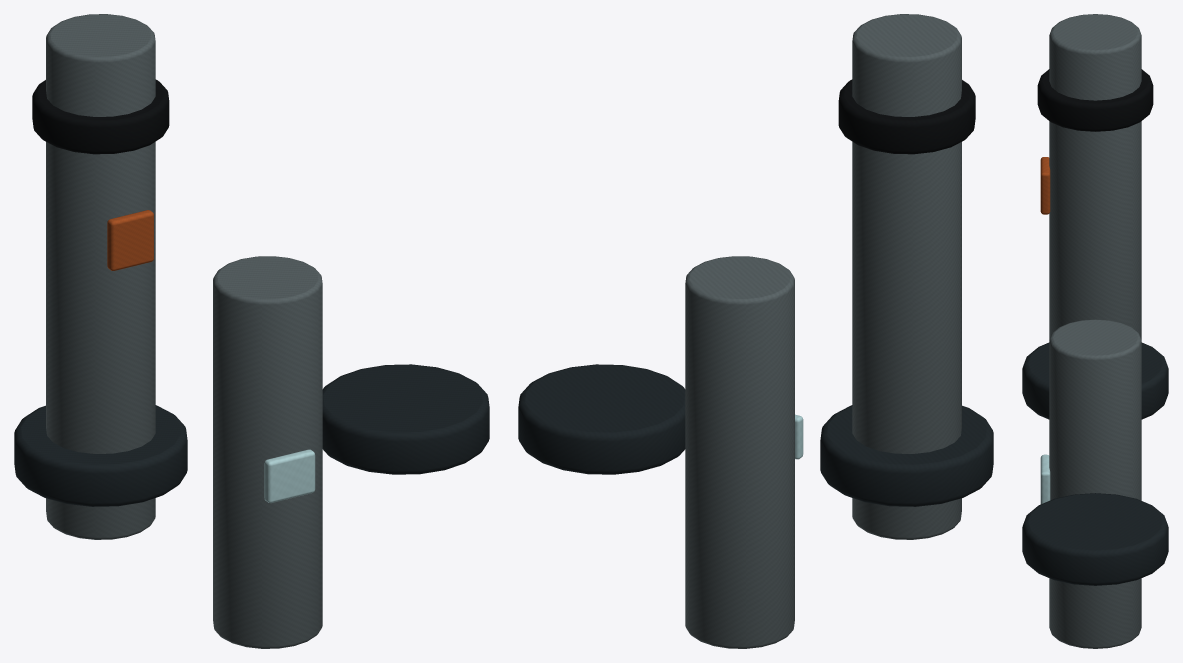
File: PipeElbow.fbx
The picture shows the model from 3 angles, left to right: view 1: azimuth 30°, elevation 25°; view 2: azimuth 150°, elevation 25°; view 3: azimuth 270°, elevation 25°; orthographic projection. The views are drawn at different scales.
Visible parts, largest first — view 1: PipeElbow_Mesh; view 2: PipeElbow_Mesh; view 3: PipeElbow_Mesh.
Part boxes in pixels (x1,y1,x2,y2): PipeElbow_Mesh: (14,14,489,648); PipeElbow_Mesh: (518,14,993,648); PipeElbow_Mesh: (1022,14,1168,648).
Size of the model in its own units: 114 by 152 by 38.
